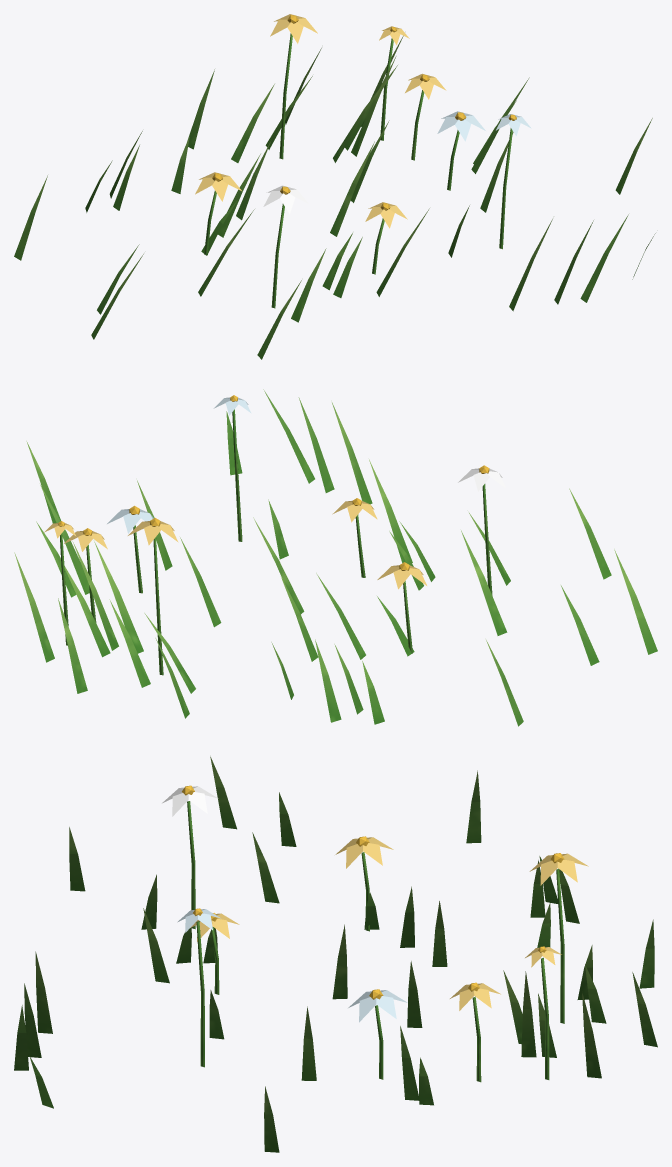
File: meadow_patch_cloud_a.glb
3 views of the same model, one above another, from view 1: azimuth 30°, elevation 25°; view 2: azimuth 150°, elevation 25°; view 3: azimuth 270°, elevation 25° (orthographic). The views are drawn at different scales.
Visible parts, largest first — view 1: meadow_patch_cloud_a; view 2: meadow_patch_cloud_a; view 3: meadow_patch_cloud_a.
Boxes of the visible parts, x1,y1,x2,y2 form: meadow_patch_cloud_a: (14, 14, 655, 359); meadow_patch_cloud_a: (14, 389, 657, 726); meadow_patch_cloud_a: (14, 756, 657, 1152).
Bounding box in the file's own units: 3.23 × 0.7642 × 2.55.
2 materials, 1 textured.
